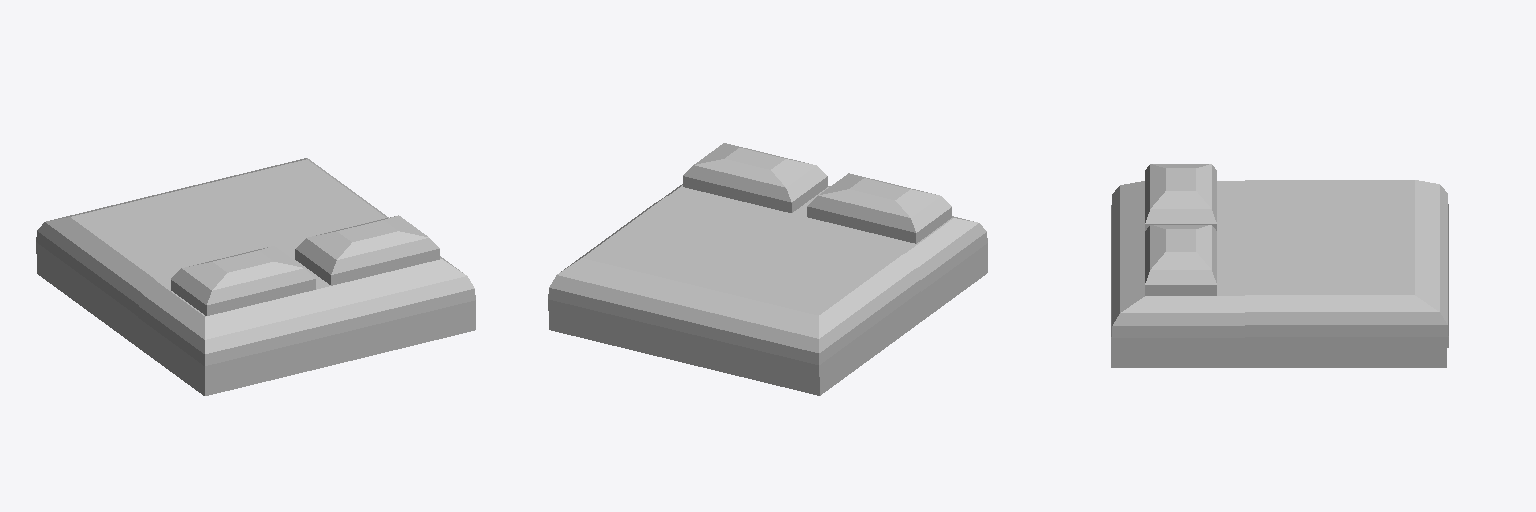
File: bed_double_forsakenmountains.obj
3 renders of one model, left to right at view 1: azimuth 30°, elevation 25°; view 2: azimuth 150°, elevation 25°; view 3: azimuth 270°, elevation 25°, orthographic.
Visible parts, largest first — view 1: bed_forsaken_mountain_double; view 2: bed_forsaken_mountain_double; view 3: bed_forsaken_mountain_double.
Boxes of the visible parts, x1=… form: bed_forsaken_mountain_double: x1=36, y1=158, x2=475, y2=395; bed_forsaken_mountain_double: x1=548, y1=143, x2=987, y2=395; bed_forsaken_mountain_double: x1=1111, y1=164, x2=1448, y2=367.
Size of the model in its own units: 1.3 by 0.4212 by 1.41.